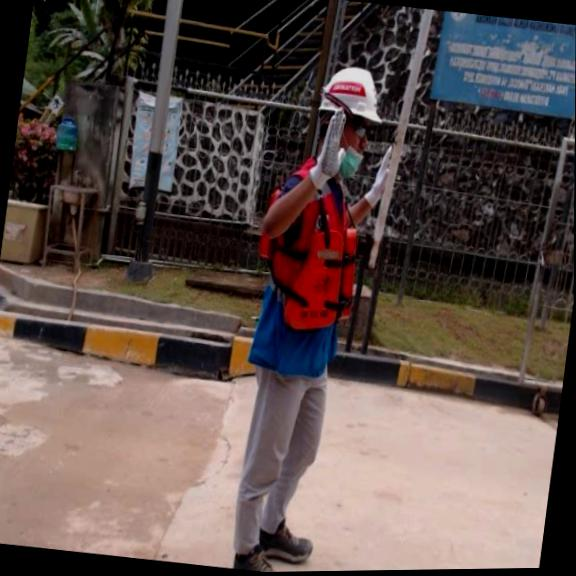safety_vest: (276, 209, 367, 342)
